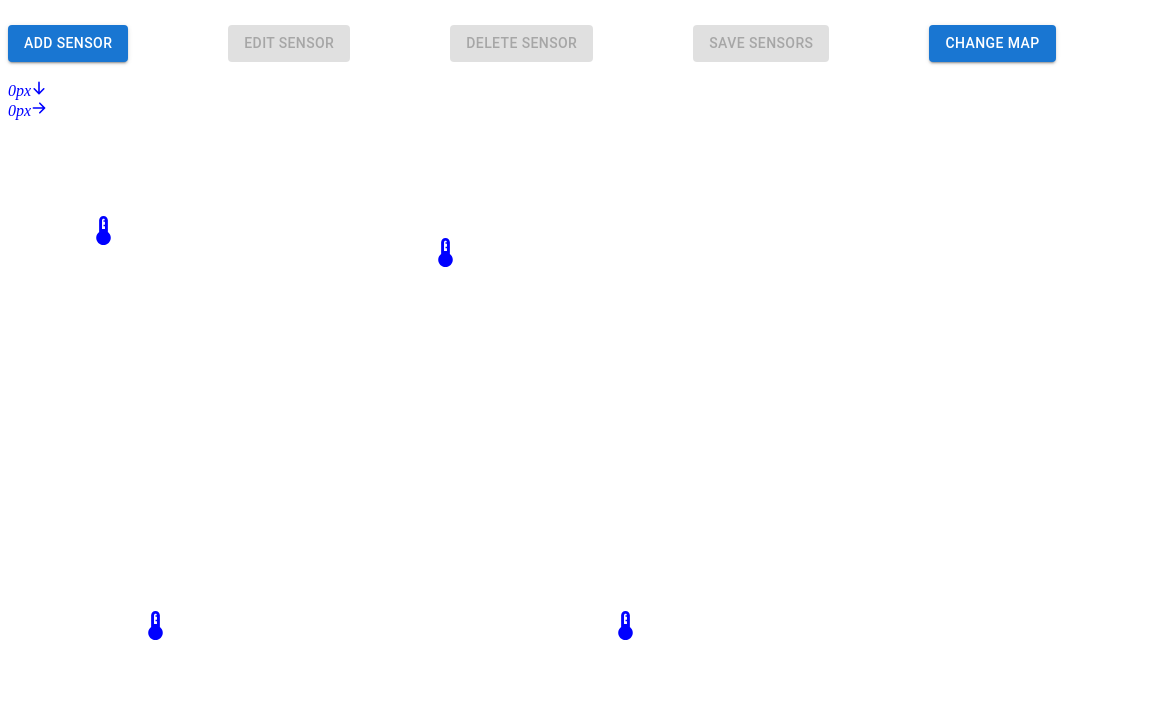
Test: edit sensor works
Expected: the button "Edit sensor" is disabled, [228,25,350,62]
Click the 4th icon at point(446, 252), box [428,234,463,270]
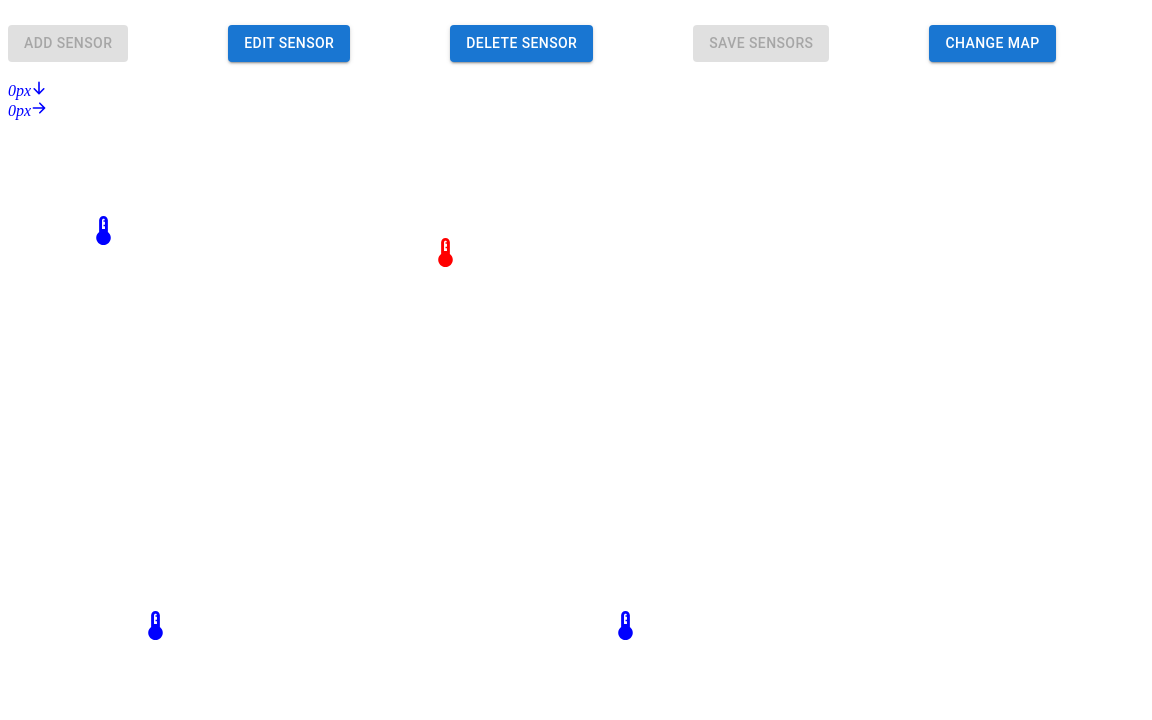
Expected: the button "Edit sensor" is enabled
Click the button "Edit sensor" at point(289, 43), box [228,25,350,62]
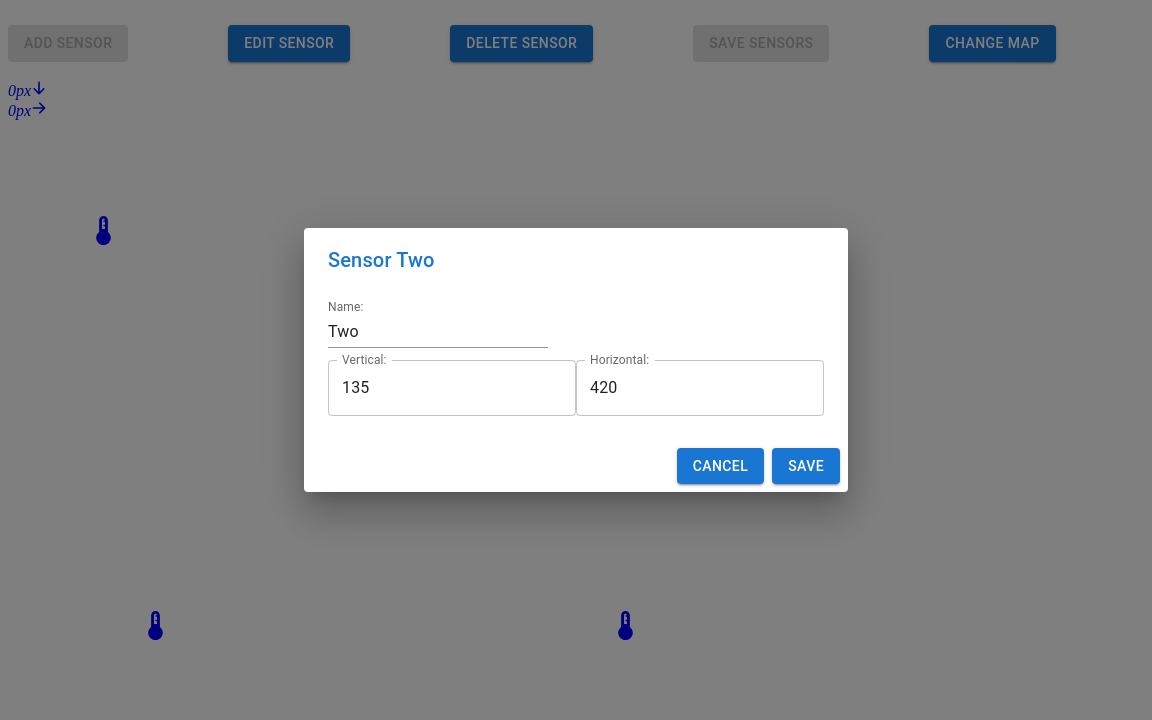
Expected: the element with id "EditSensorModal" is shown
